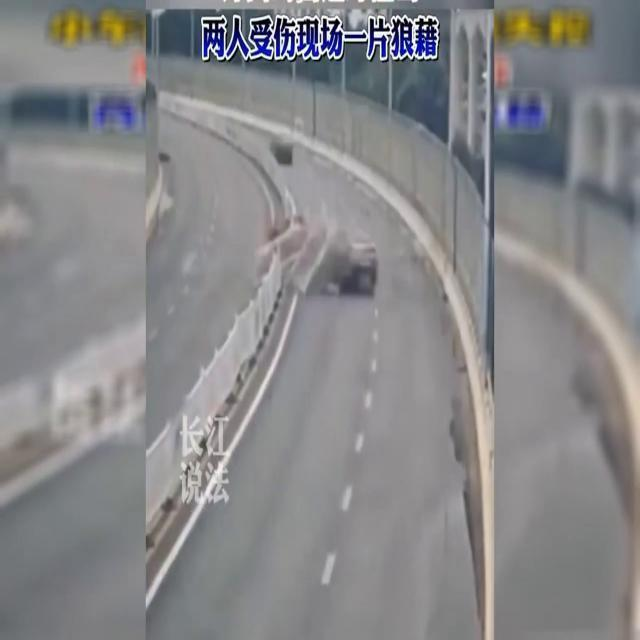accident: (275, 220, 377, 298)
